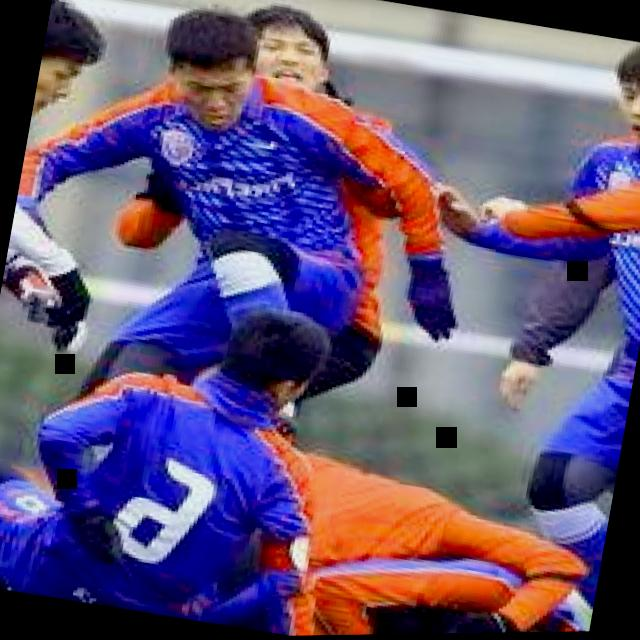Fall-Detected: (0, 257, 367, 640)
